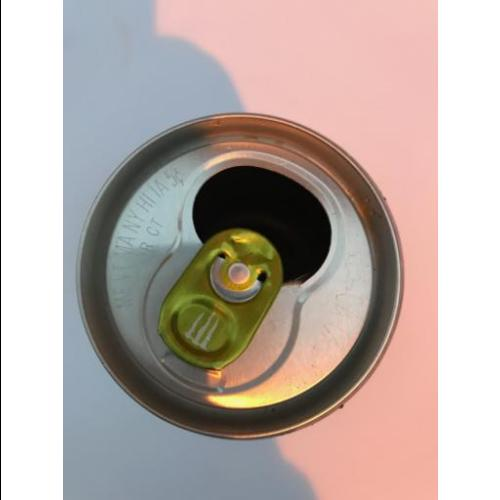metal: (81, 110, 409, 440)
